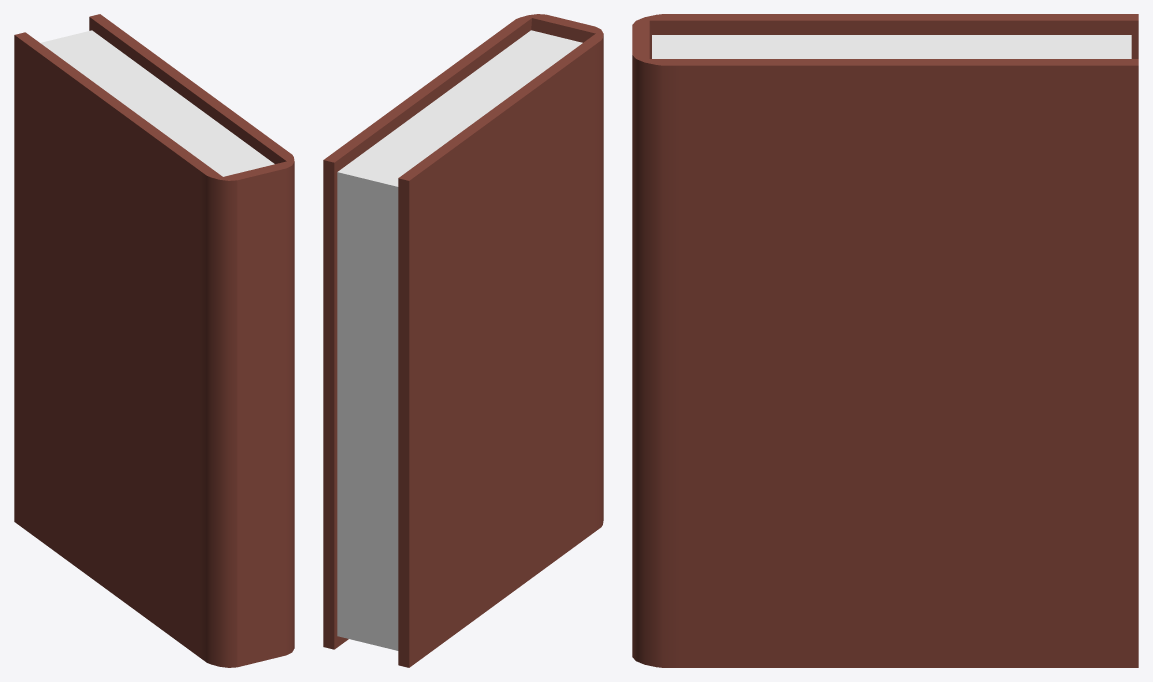
The model's file is Librorojo.fbx.
The picture shows the model from 3 angles, left to right: view 1: azimuth 30°, elevation 25°; view 2: azimuth 150°, elevation 25°; view 3: azimuth 270°, elevation 25°; orthographic projection. The views are drawn at different scales.
Parts seen in each view (by area): view 1: libro; view 2: libro; view 3: libro.
Boxes of the visible parts, bbox=[...] form: libro: bbox=[14, 14, 294, 667]; libro: bbox=[323, 14, 603, 667]; libro: bbox=[632, 14, 1138, 667].
Bounding box in the file's own units: 4.64 × 25.17 × 19.18.
